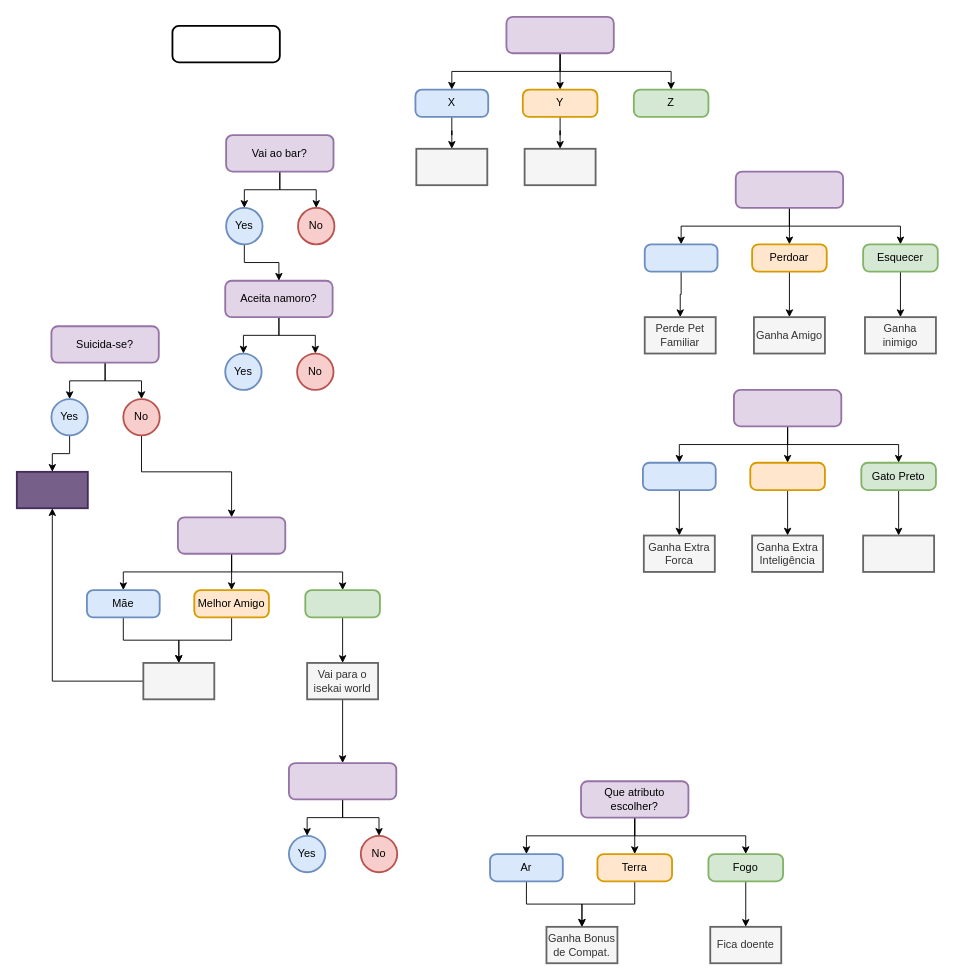
Some shapes in this 954 by 979 pixel diagram are drawn without their labels. The centre of each missing label's shape, as x and y in pixels:
Aceita presente?: the point at 342,781
Ganha Extra Sorte: the point at 898,553
Lobo Branco: the point at 679,475
MORRE: the point at 51,489
O que fazer com x inimigo?: the point at 789,189
Passarinho: the point at 787,475
Pet familiar fica doente: the point at 559,166
Pet familiar tbm evolui: the point at 451,166
Prender: the point at 680,257
Qual pet escolhe como familiar?: the point at 787,408
Que poder escolhes?: the point at 559,34
Quem morre no acidente de carro?: the point at 231,535
Start: the point at 225,44
Suicida-se: the point at 178,681
Todos: the point at 342,603
